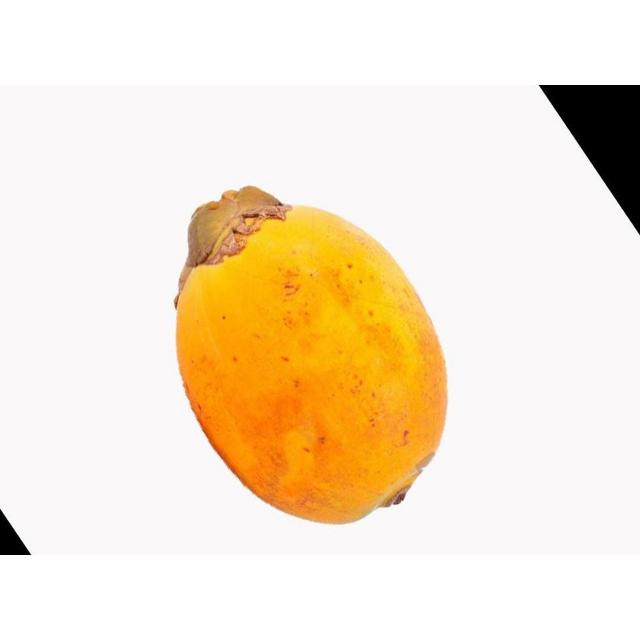good: (174, 186, 447, 524)
